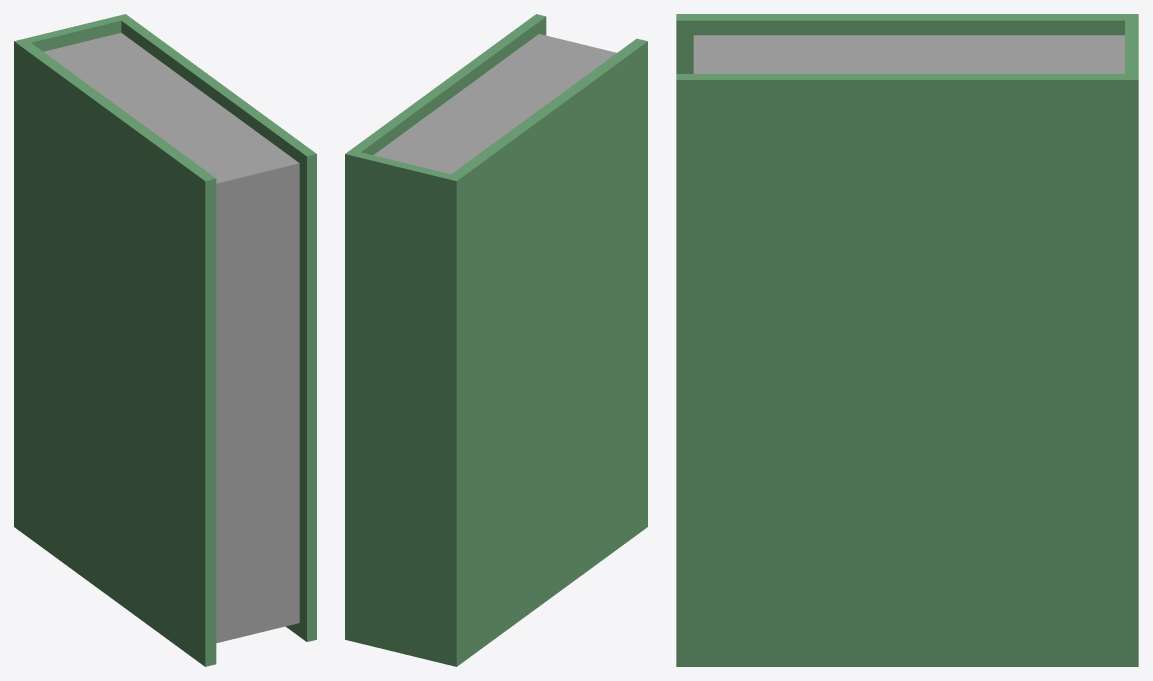
File: book.fbx
The picture shows the model from 3 angles, left to right: view 1: azimuth 30°, elevation 25°; view 2: azimuth 150°, elevation 25°; view 3: azimuth 270°, elevation 25°; orthographic projection. The views are drawn at different scales.
Parts seen in each view (by area): view 1: pCube1; view 2: pCube1; view 3: pCube1.
Boxes of the visible parts, x1,y1,x2,y2 form: pCube1: (14, 14, 316, 666); pCube1: (345, 14, 647, 666); pCube1: (676, 14, 1138, 666).
Size of the model in its own units: 1 by 4.16 by 2.97.
